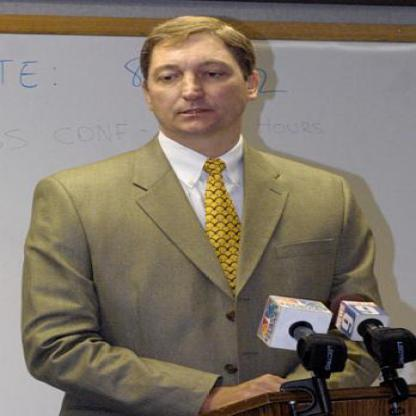face: (145, 20, 250, 140)
